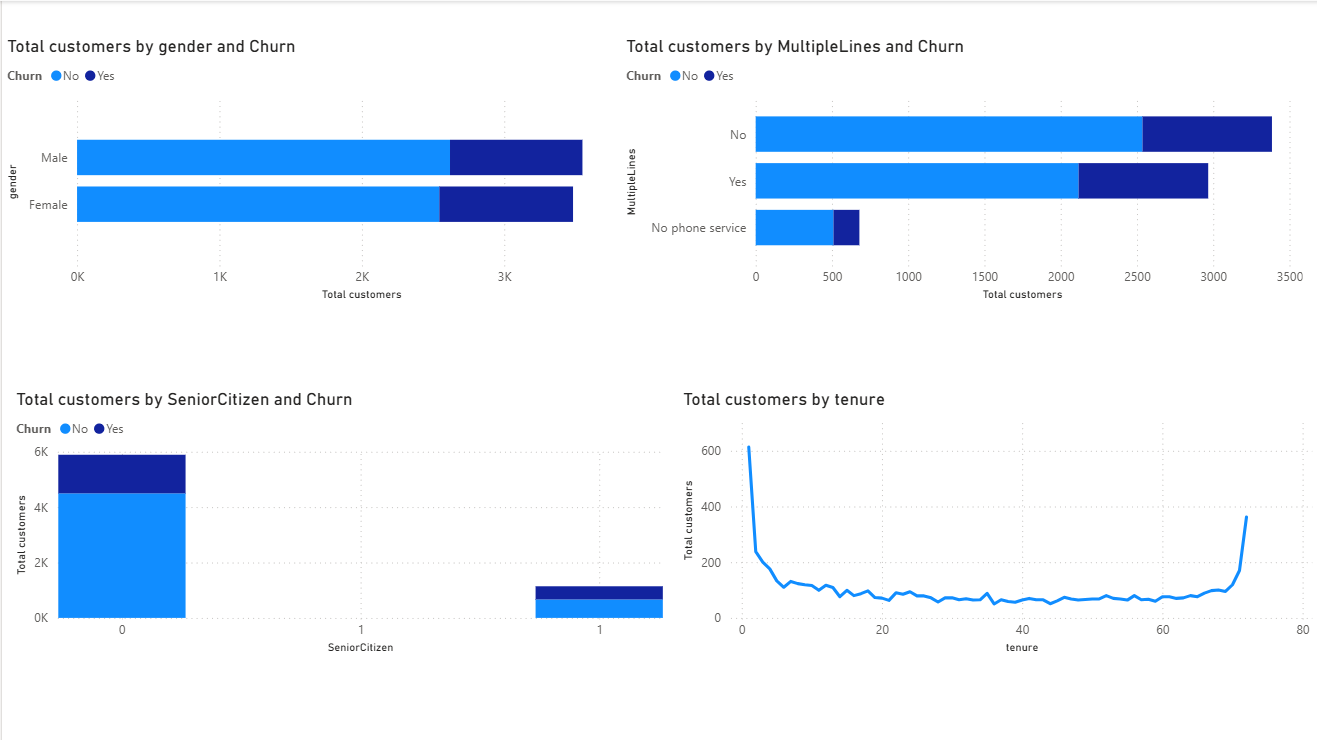

What the dashboard file says about the page in this screenshot:
{"tool":"powerbi","page":{"name":"Page 2","canvas":[1280,720],"ordinal":1},"visuals":[{"type":"barChart","fields":{"Category":["WA_Fn-UseC_-Telco-Customer-Churn-selected-columns.gender"],"Y":["WA_Fn-UseC_-Telco-Customer-Churn-selected-columns.Total customers"],"Series":["WA_Fn-UseC_-Telco-Customer-Churn-selected-columns.Churn"]},"box":[0,34,639,261.6],"z":0},{"type":"barChart","fields":{"Category":["WA_Fn-UseC_-Telco-Customer-Churn-selected-columns.MultipleLines"],"Y":["WA_Fn-UseC_-Telco-Customer-Churn-selected-columns.Total customers"],"Series":["WA_Fn-UseC_-Telco-Customer-Churn-selected-columns.Churn"]},"box":[602.1,34,668.2,261.6],"z":1000},{"type":"columnChart","fields":{"Category":["WA_Fn-UseC_-Telco-Customer-Churn-selected-columns.SeniorCitizen"],"Y":["WA_Fn-UseC_-Telco-Customer-Churn-selected-columns.Total customers"],"Series":["WA_Fn-UseC_-Telco-Customer-Churn-selected-columns.Churn"]},"box":[8.8,377.4,639,261.6],"z":2000},{"type":"lineChart","fields":{"Category":["WA_Fn-UseC_-Telco-Customer-Churn-selected-columns.tenure"],"Y":["WA_Fn-UseC_-Telco-Customer-Churn-selected-columns.Total customers"]},"box":[657.5,377.4,622.5,261.6],"z":3000}]}

Visuals, with their boxes in screenshot pixels (x1, y1, x2, y2), scaled from the page's 1280x720 canvas onto the 1317x740 screenshot:
barChart - WA_Fn-UseC_-Telco-Customer-Churn-selected-columns.gender x WA_Fn-UseC_-Telco-Customer-Churn-selected-columns.Total customers: [left=0, top=35, right=657, bottom=304]
barChart - WA_Fn-UseC_-Telco-Customer-Churn-selected-columns.MultipleLines x WA_Fn-UseC_-Telco-Customer-Churn-selected-columns.Total customers: [left=620, top=35, right=1307, bottom=304]
columnChart - WA_Fn-UseC_-Telco-Customer-Churn-selected-columns.SeniorCitizen x WA_Fn-UseC_-Telco-Customer-Churn-selected-columns.Total customers: [left=9, top=388, right=667, bottom=657]
lineChart - WA_Fn-UseC_-Telco-Customer-Churn-selected-columns.tenure x WA_Fn-UseC_-Telco-Customer-Churn-selected-columns.Total customers: [left=677, top=388, right=1316, bottom=657]
